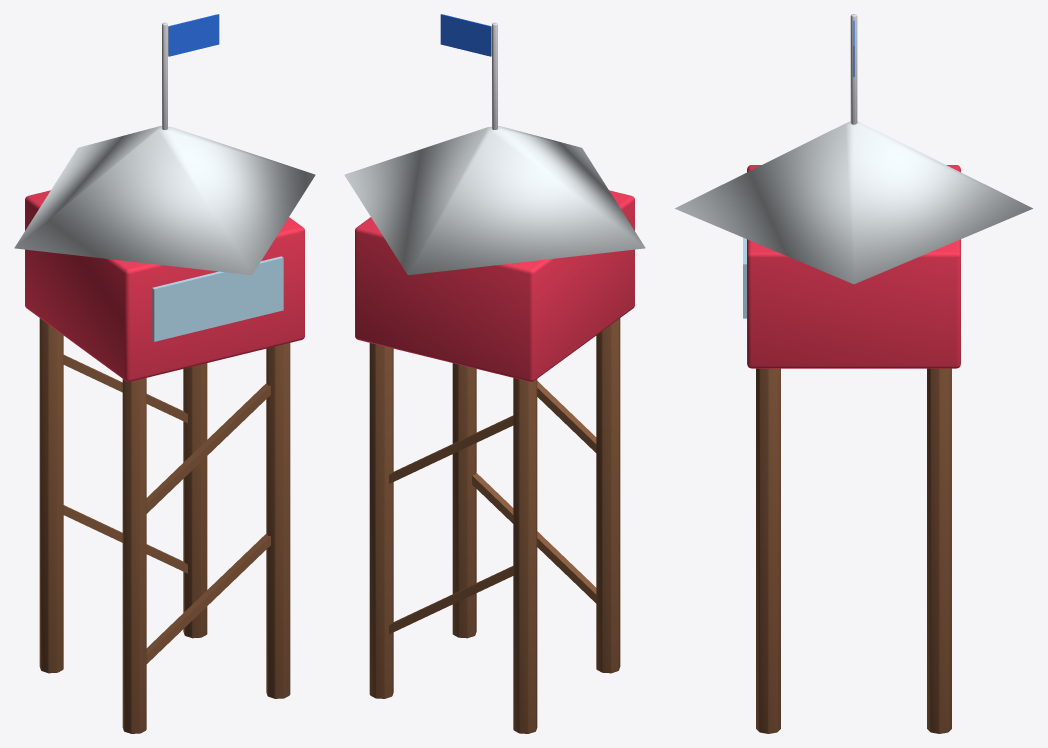
Rendered from menara-pengawas.glb.
3 views of the same model, side by side, from view 1: azimuth 30°, elevation 25°; view 2: azimuth 150°, elevation 25°; view 3: azimuth 270°, elevation 25° (orthographic). The views are drawn at different scales.
Parts seen in each view (by area): view 1: Cone, Cube.004, Cylinder, Cylinder.002, Cylinder.001, Cube.005, Cylinder.003, Cube.002, Cube, Cube.006, Cube.001, Cube.003 (+1 smaller); view 2: Cone, Cube.004, Cylinder.001, Cylinder.003, Cylinder, Cylinder.002, Cube, Cube.006, Cube.003, Cube.001, Cube.002, Cylinder.004; view 3: Cone, Cube.004, Cylinder.002, Cylinder.003, Cylinder.004.
Part boxes in pixels (left/top/right/bottom): Cone: left=14, top=126, right=315, bottom=275; Cube.004: left=25, top=190, right=304, bottom=381; Cylinder: left=122, top=378, right=146, bottom=733; Cylinder.002: left=266, top=343, right=290, bottom=698; Cylinder.001: left=39, top=318, right=63, bottom=673; Cube.005: left=152, top=256, right=283, bottom=341; Cylinder.003: left=183, top=363, right=207, bottom=638; Cube.002: left=146, top=383, right=270, bottom=513; Cube: left=146, top=533, right=270, bottom=663; Cube.006: left=168, top=14, right=219, bottom=56; Cube.001: left=63, top=505, right=187, bottom=573; Cube.003: left=63, top=355, right=187, bottom=423; Cone: left=344, top=126, right=645, bottom=275; Cube.004: left=355, top=190, right=634, bottom=381; Cylinder.001: left=513, top=378, right=537, bottom=733; Cylinder.003: left=369, top=343, right=393, bottom=698; Cylinder: left=596, top=318, right=620, bottom=673; Cylinder.002: left=452, top=363, right=476, bottom=638; Cube: left=472, top=472, right=596, bottom=603; Cube.006: left=440, top=14, right=491, bottom=56; Cube.003: left=389, top=415, right=513, bottom=483; Cube.001: left=389, top=566, right=513, bottom=634; Cube.002: left=537, top=381, right=596, bottom=452; Cylinder.004: left=492, top=22, right=497, bottom=129; Cone: left=675, top=121, right=1032, bottom=284; Cube.004: left=747, top=165, right=960, bottom=368; Cylinder.002: left=756, top=368, right=780, bottom=733; Cylinder.003: left=927, top=368, right=951, bottom=733; Cylinder.004: left=850, top=14, right=857, bottom=124.
Bounding box in the file's own units: 8.4 × 17.5 × 8.4.
